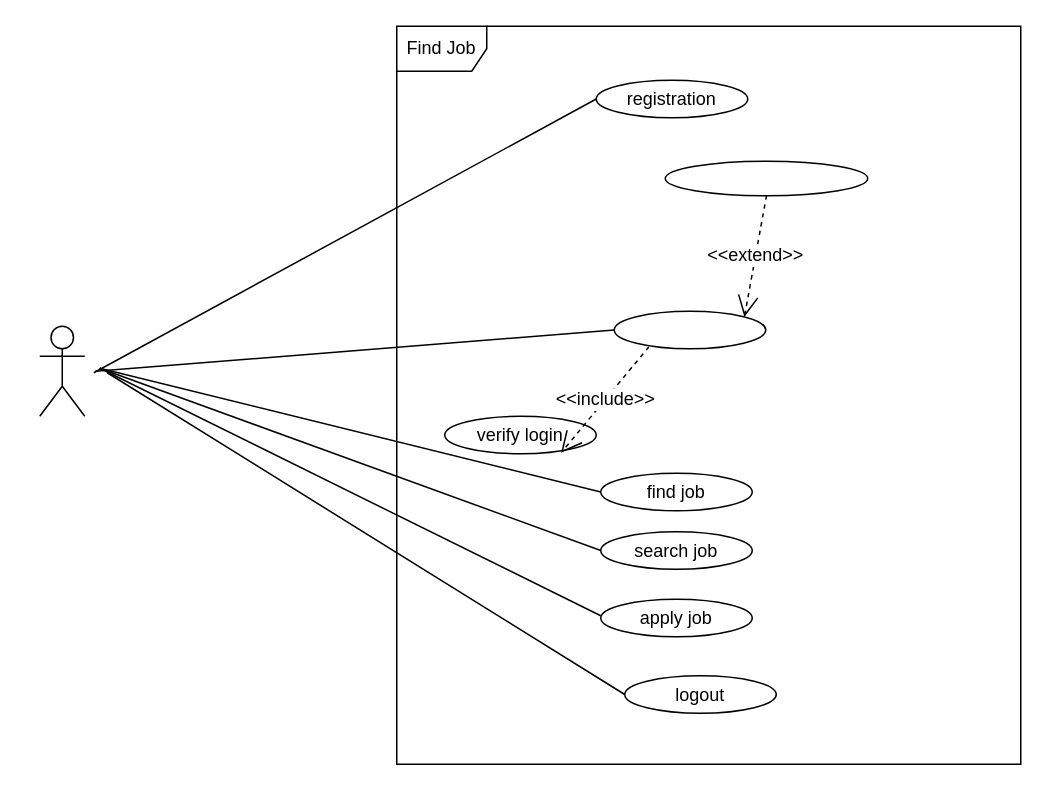
This 1047x791 diagram has some shape labels left out. The shapes that lost their labels are listed below. From the top down, each one's centre as x and y in pixels, then its label:
the point at 766,178: Display error message
the point at 689,329: login
the point at 61,370: Applicant
